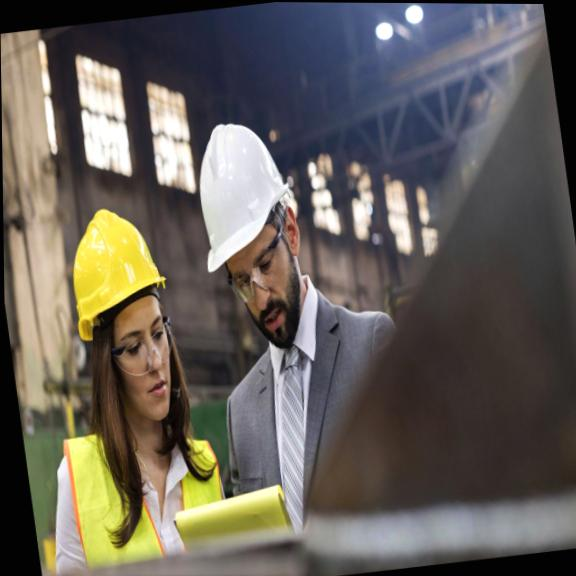no_safety_vest: (210, 299, 410, 544)
safety_vest: (39, 417, 228, 576)
